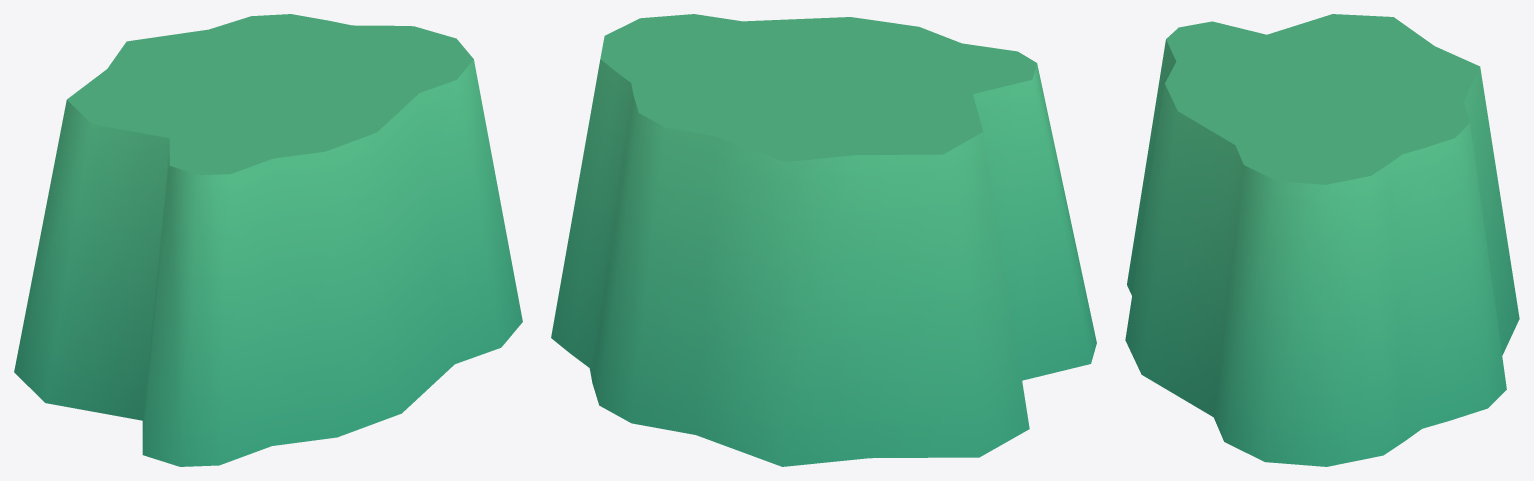
The model's file is island-grass.glb.
3 views of the same model, side by side, from view 1: azimuth 30°, elevation 25°; view 2: azimuth 150°, elevation 25°; view 3: azimuth 270°, elevation 25° (orthographic). The views are drawn at different scales.
Visible parts, largest first — view 1: patch-grass; view 2: patch-grass; view 3: patch-grass.
Part boxes in pixels (x1=…): patch-grass: x1=14, y1=14, x2=522, y2=466; patch-grass: x1=551, y1=14, x2=1096, y2=466; patch-grass: x1=1125, y1=14, x2=1519, y2=466.
Bounding box in the file's own units: 6.85 × 3.9 × 5.35.
1 material, 1 textured.
